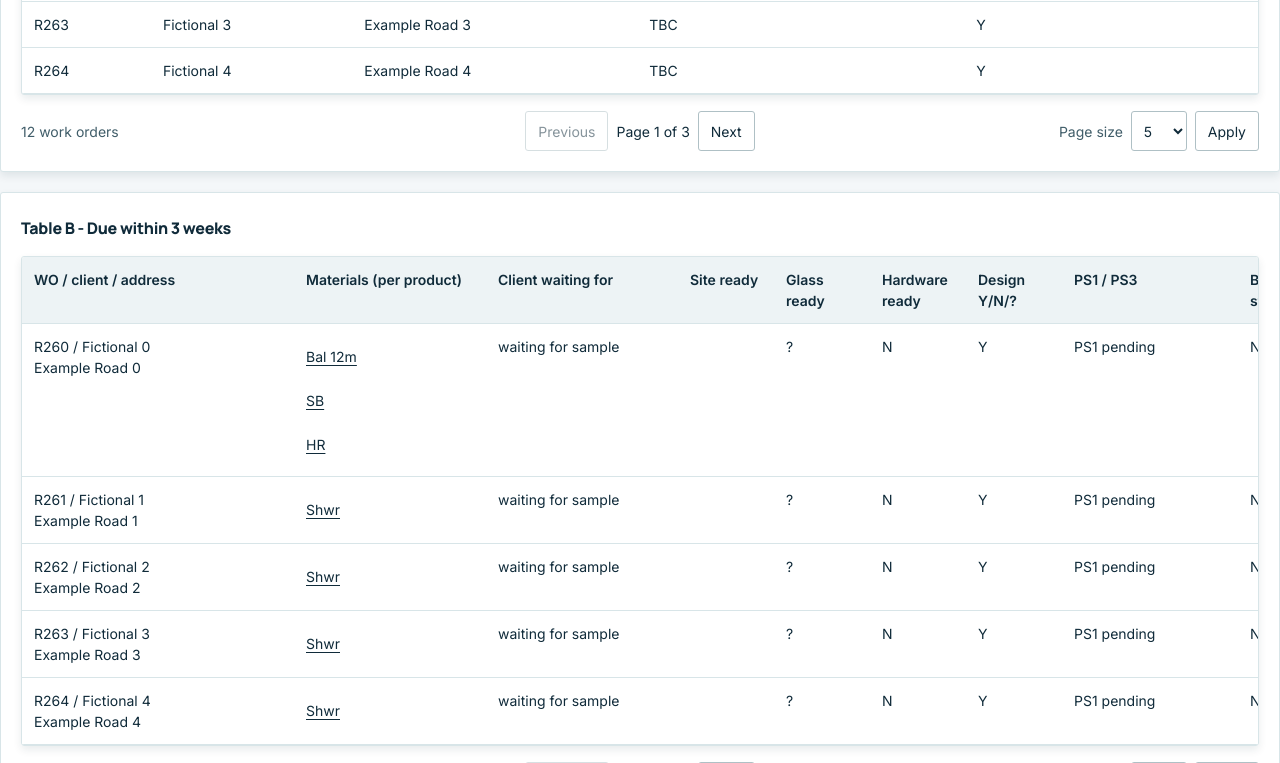
published Work Orders tables › renders separate material controls for the older combined abbreviation publication used by Preview
The image size is (1280, 763).
(page scrolled)
Click the button with aria-label "View material description: SB" at point(326, 400), box [306,380,346,420]
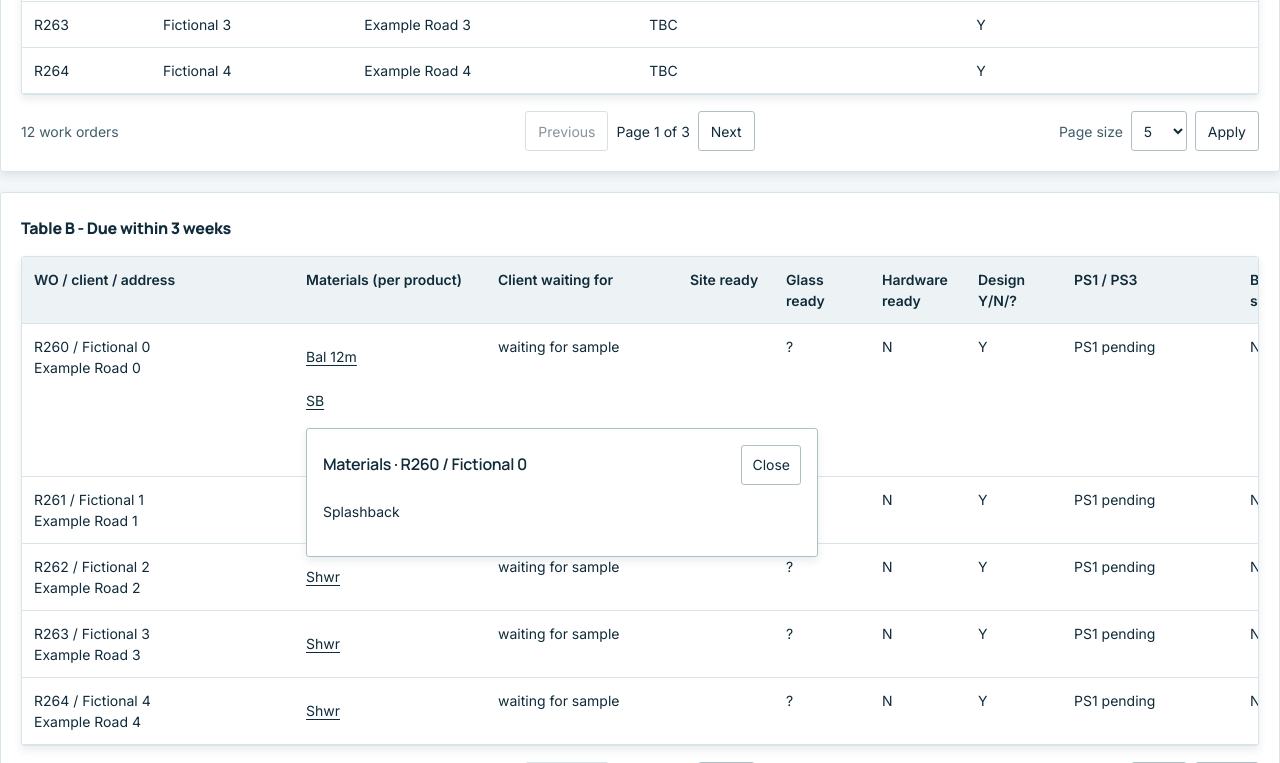
Check: the dialog does not show "Bal 12m; SB; HR", box [306,428,818,557]
Check: the dialog shows "Splashback", box [323,503,400,520]
